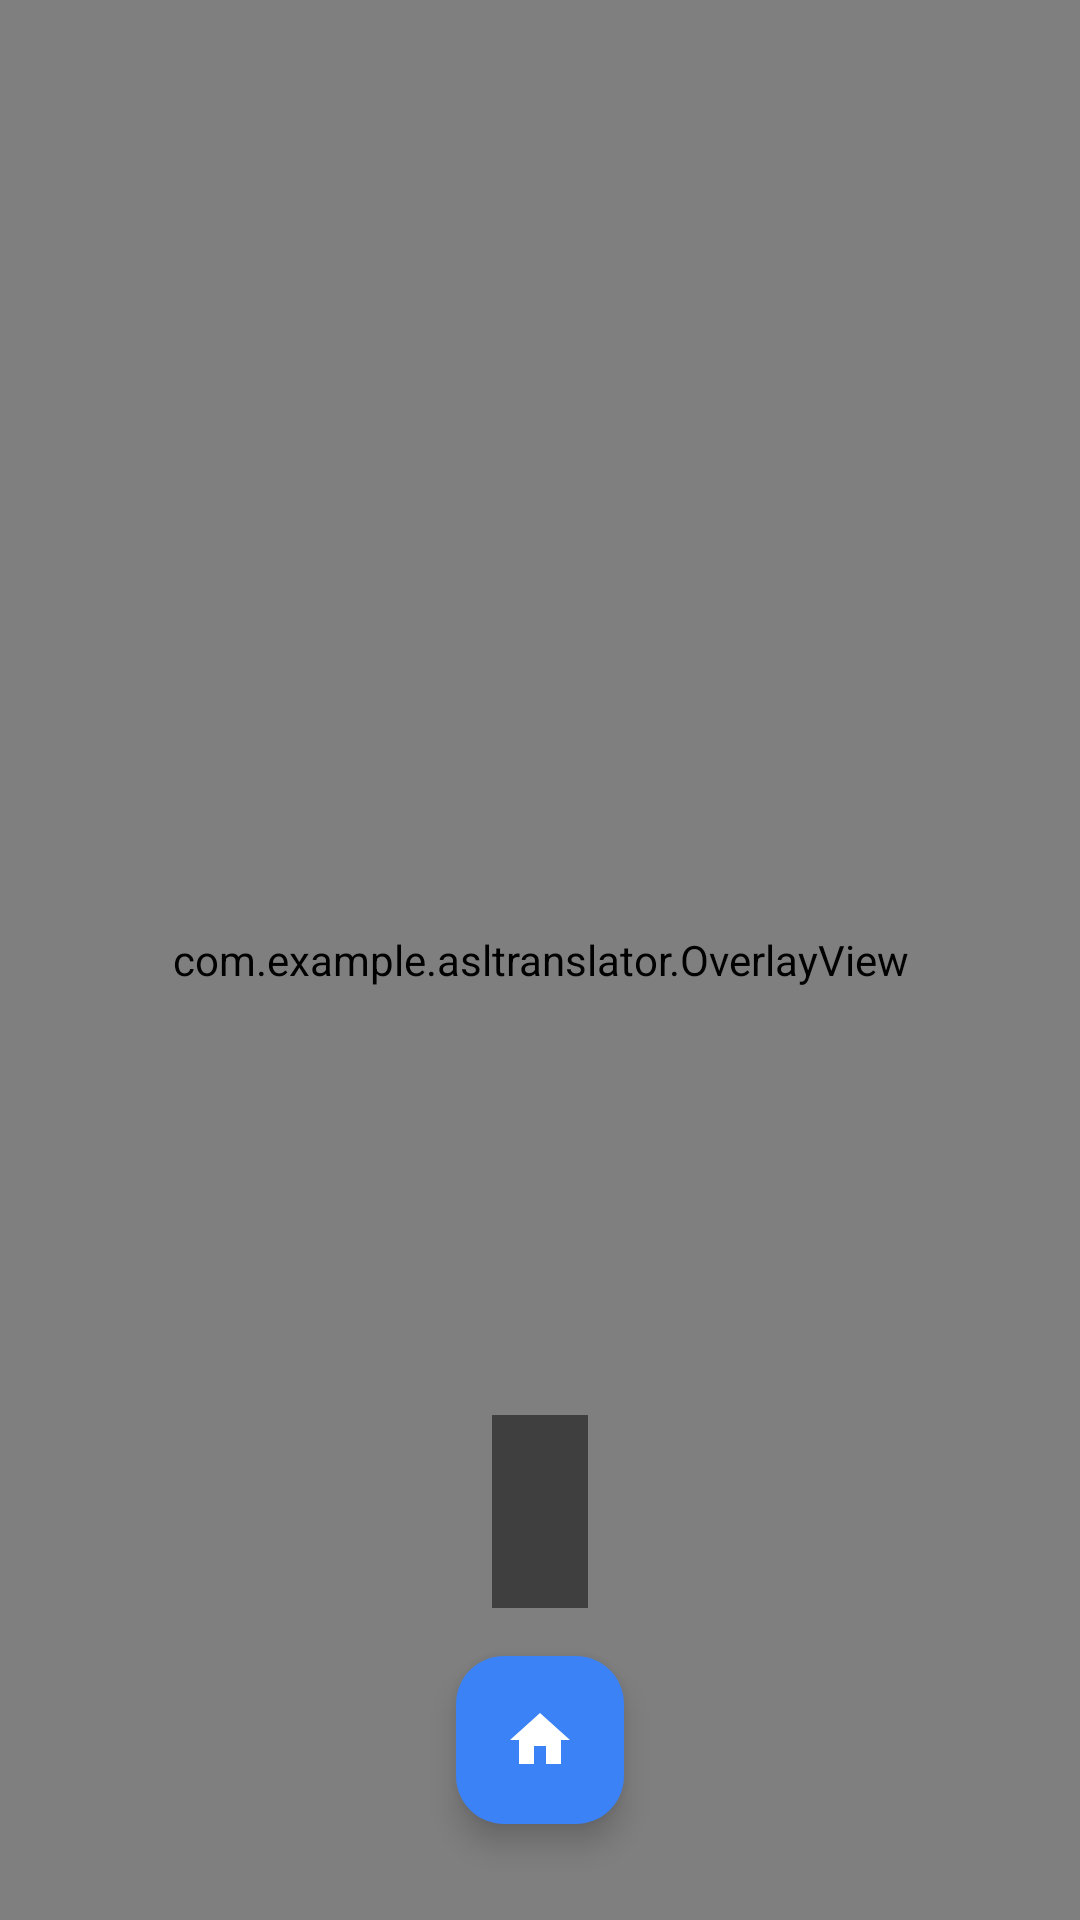

Locate icon controls on the screen. Image size 1080*1920, boxes as bbox(x1, y1, x2, y2).
Home: bbox(456, 1656, 624, 1824)
